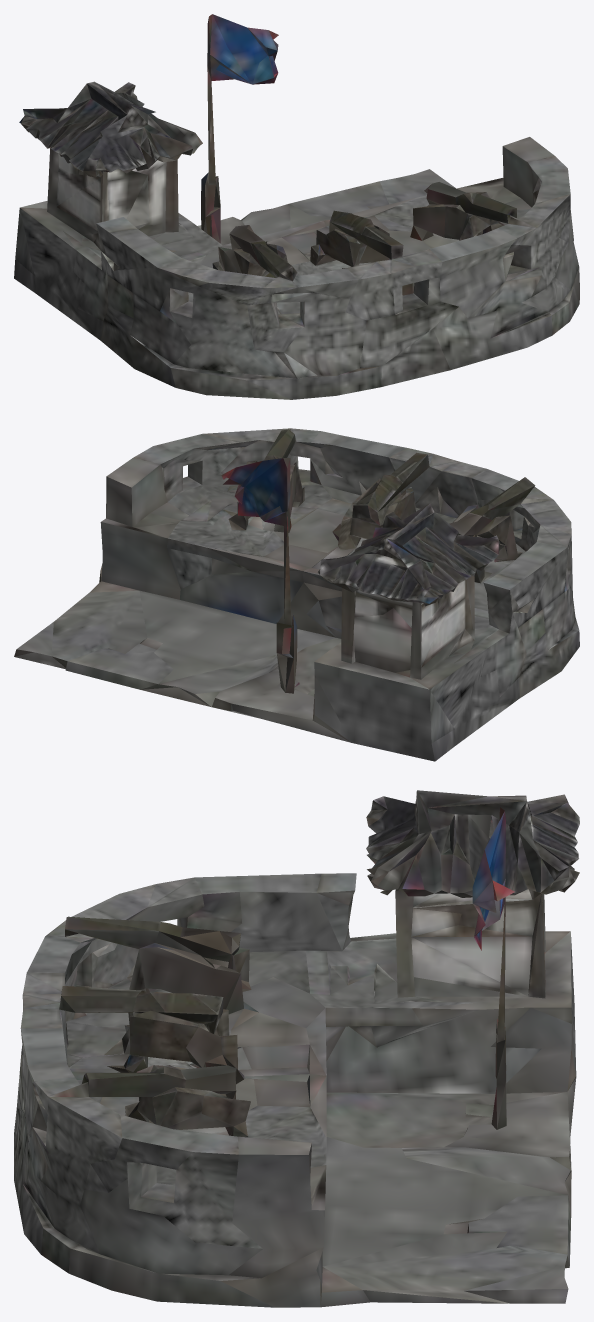
Rendered from battery_lod1.glb.
The picture shows the model from 3 angles, top to bottom: view 1: azimuth 30°, elevation 25°; view 2: azimuth 150°, elevation 25°; view 3: azimuth 270°, elevation 25°; orthographic projection. The views are drawn at different scales.
Visible parts, largest first — view 1: Mesh_0; view 2: Mesh_0; view 3: Mesh_0.
Part boxes in pixels (x1=…): Mesh_0: x1=14, y1=14, x2=579, y2=399; Mesh_0: x1=14, y1=428, x2=579, y2=761; Mesh_0: x1=14, y1=790, x2=579, y2=1307.
Size of the model in its own units: 1.89 by 1.02 by 1.58.
Materials: 1 (1 with a texture image).
